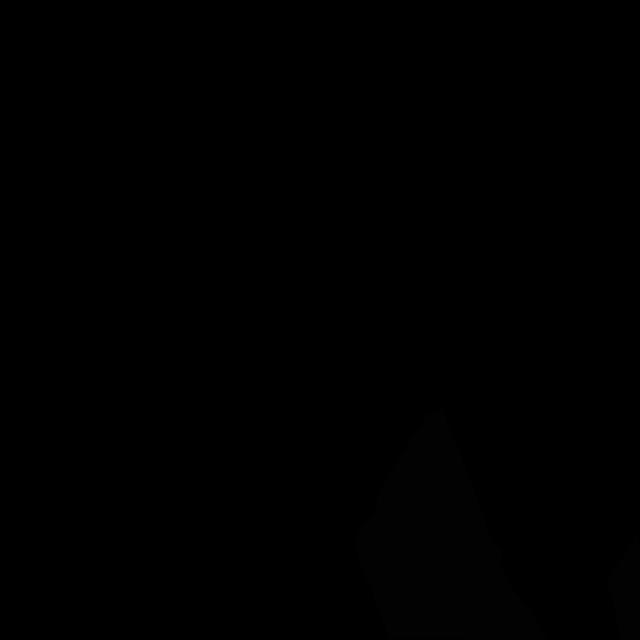cardboard: (354, 407, 548, 640), (607, 530, 640, 640)
